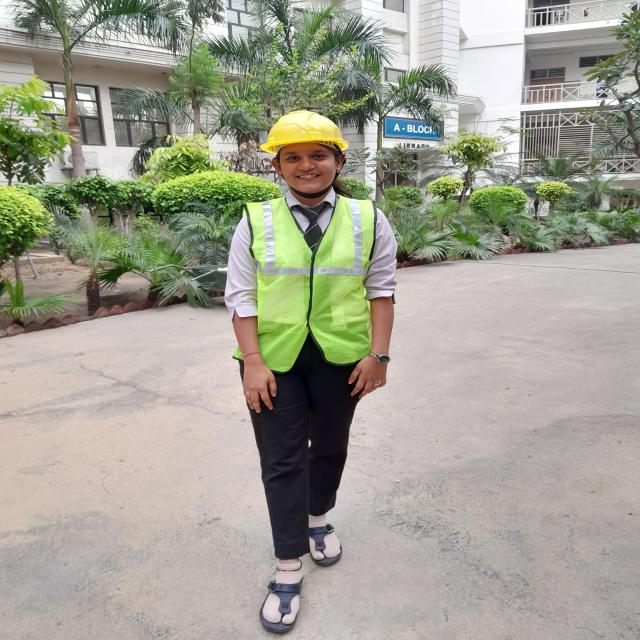safe: (226, 110, 398, 632)
